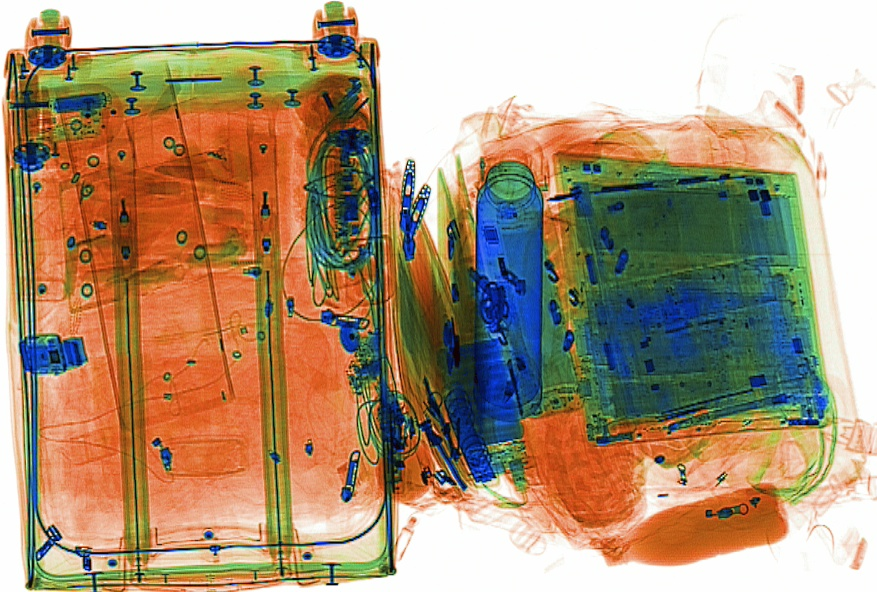powerbank: (431, 328, 537, 483)
